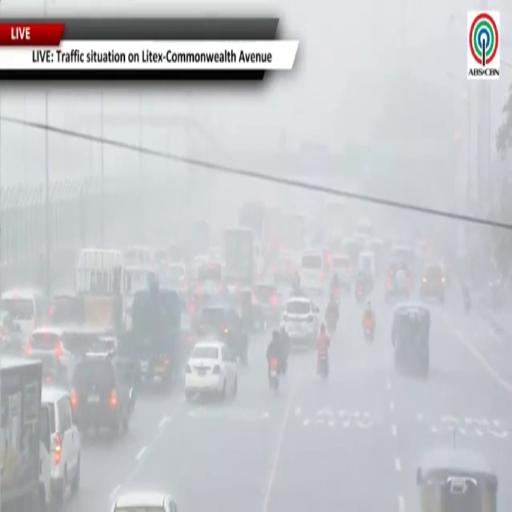car: (72, 352, 133, 435), (41, 386, 80, 506), (24, 327, 79, 388), (185, 339, 237, 399), (196, 303, 248, 363), (0, 290, 47, 339), (282, 297, 319, 348), (111, 491, 177, 511), (300, 250, 327, 295), (48, 293, 85, 325), (253, 283, 281, 324), (385, 261, 411, 301), (420, 264, 446, 303), (0, 311, 23, 355), (333, 253, 353, 291)
motorcycle: (269, 358, 279, 391), (318, 352, 329, 378), (325, 312, 337, 334), (463, 286, 471, 312), (364, 323, 374, 343), (355, 283, 365, 303), (332, 285, 341, 302), (463, 296, 472, 312), (365, 328, 374, 344)
truck: (0, 357, 46, 511), (120, 284, 181, 388), (225, 229, 254, 291), (239, 202, 265, 241)
